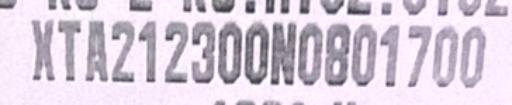letter: (22, 13, 62, 84), (268, 15, 304, 90), (427, 19, 463, 92), (458, 23, 494, 94), (322, 16, 354, 95), (108, 15, 142, 84), (188, 16, 220, 89), (162, 17, 196, 84), (402, 22, 436, 89), (81, 17, 113, 84), (215, 16, 245, 87), (134, 13, 162, 86), (375, 18, 403, 91), (298, 19, 326, 92), (56, 14, 86, 81), (245, 19, 271, 92), (350, 21, 378, 88)
